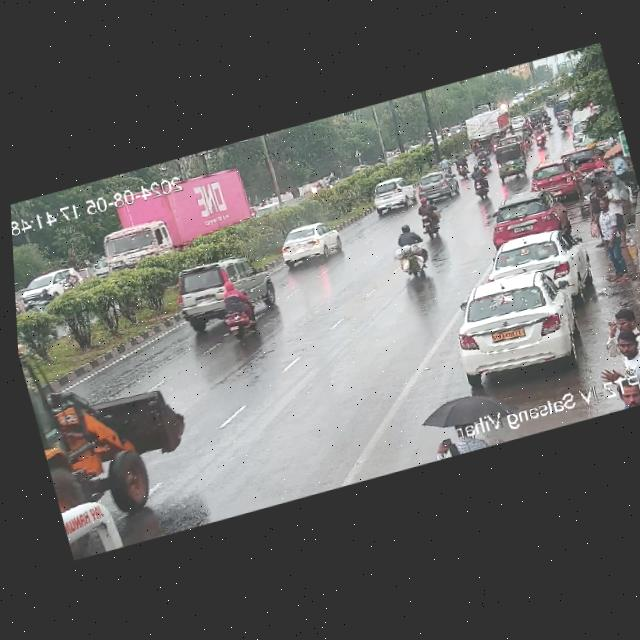car: (440, 259, 587, 388), (167, 246, 276, 335), (484, 224, 593, 311), (478, 186, 568, 250), (272, 217, 346, 272), (14, 262, 85, 313), (528, 157, 585, 203), (367, 173, 417, 212), (411, 168, 459, 205), (487, 138, 528, 181), (554, 142, 606, 175), (251, 196, 289, 223), (566, 118, 596, 148), (88, 254, 112, 281), (550, 96, 574, 117), (347, 161, 374, 179), (526, 104, 549, 124), (508, 113, 528, 133)
motorcycle: (386, 218, 440, 283), (213, 286, 261, 340), (413, 195, 448, 240), (465, 164, 494, 201), (308, 174, 340, 197), (530, 124, 550, 151), (451, 152, 471, 179), (474, 144, 492, 171), (436, 154, 452, 172)
person: (585, 192, 636, 285), (595, 303, 640, 384), (577, 175, 622, 226)
truck: (16, 298, 185, 511), (88, 165, 258, 272), (462, 107, 515, 151), (467, 99, 497, 119)
